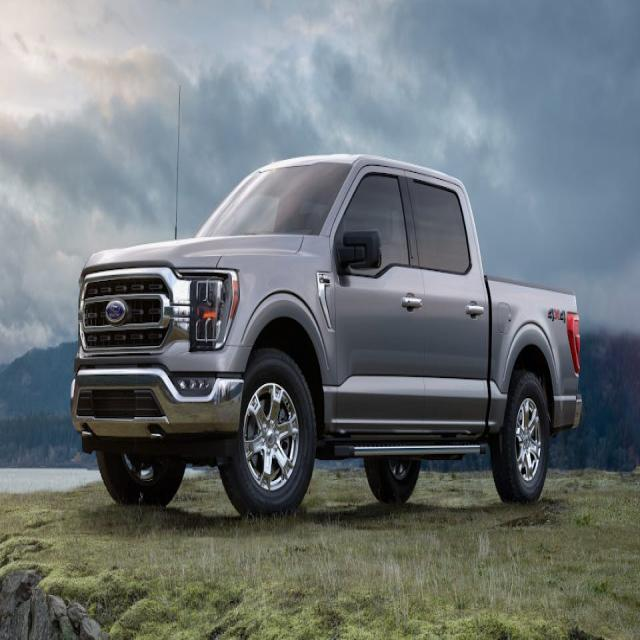truck: (62, 86, 600, 574)
